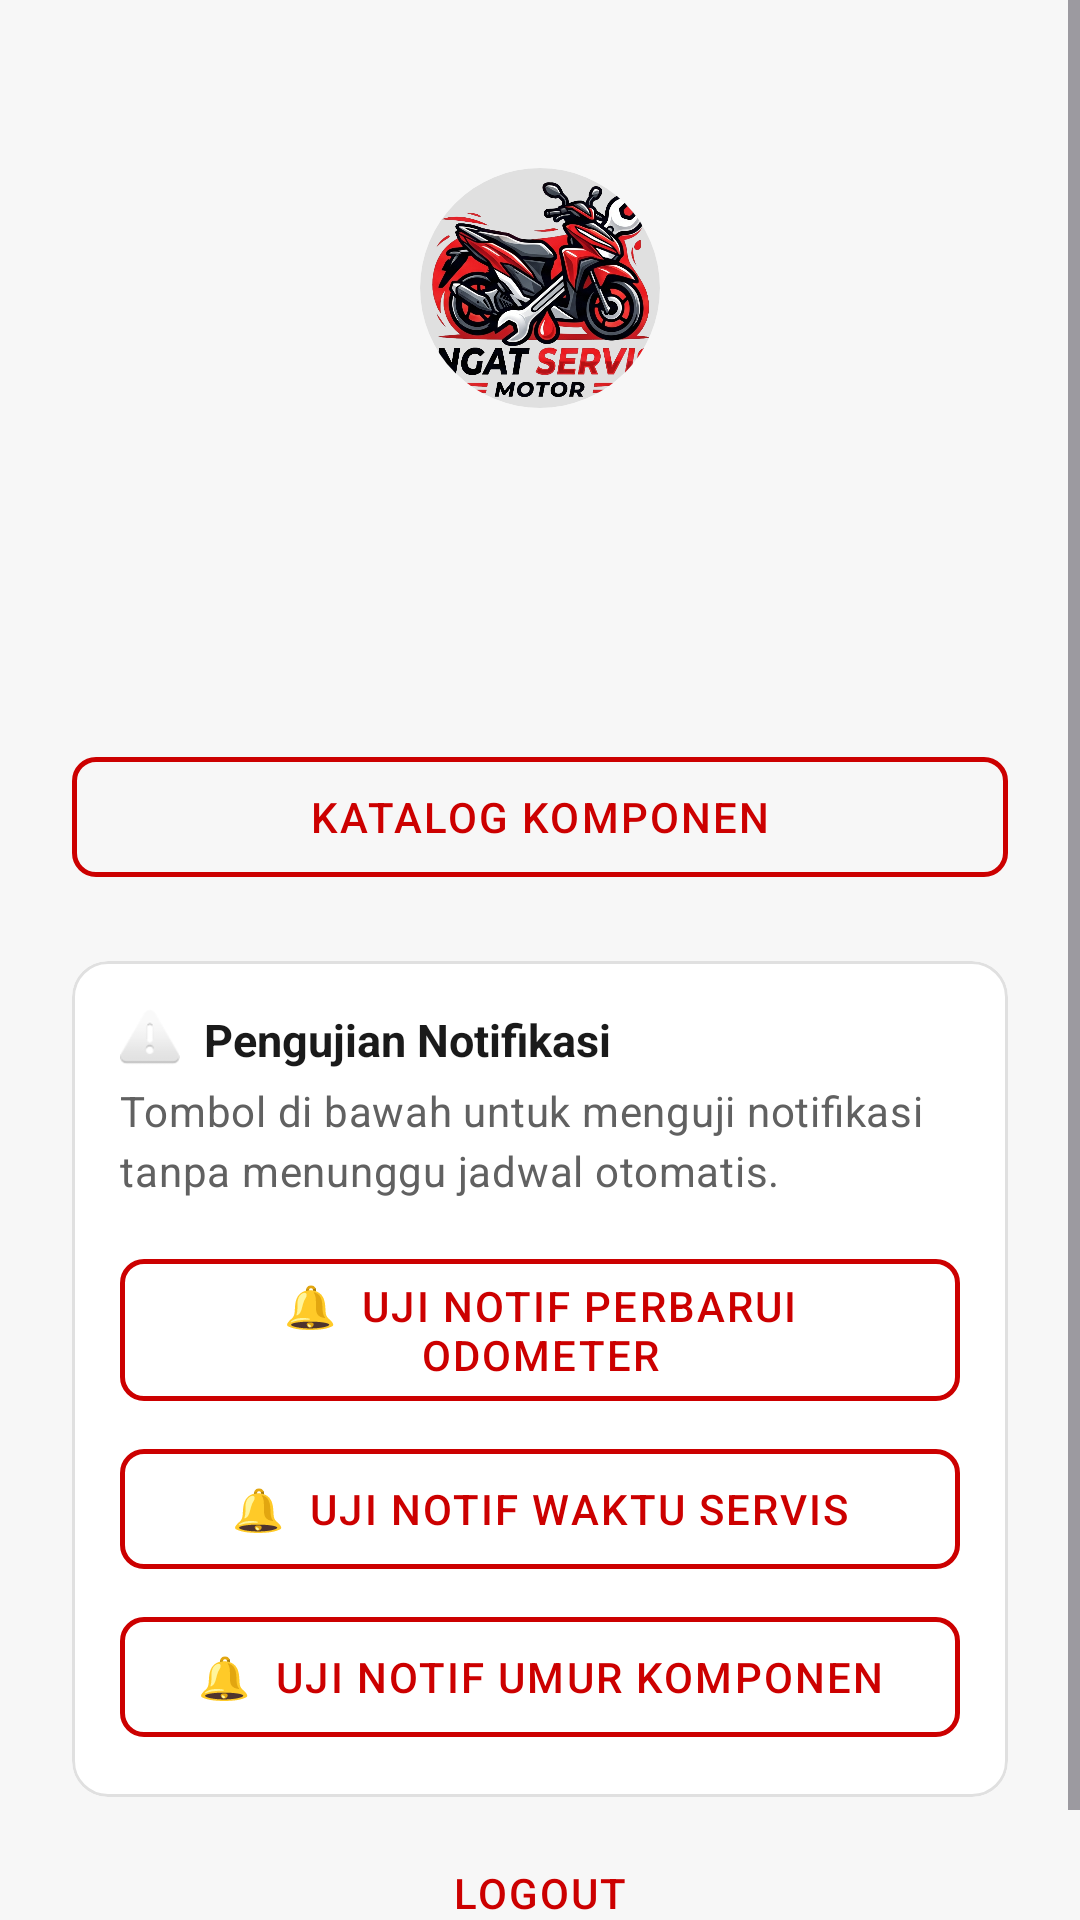

Icon bounding boxes for this 1080 x 1920 phone screenshot, format bbox(x1, y1, x2, y2):
alert: bbox(120, 1023, 180, 1063)
